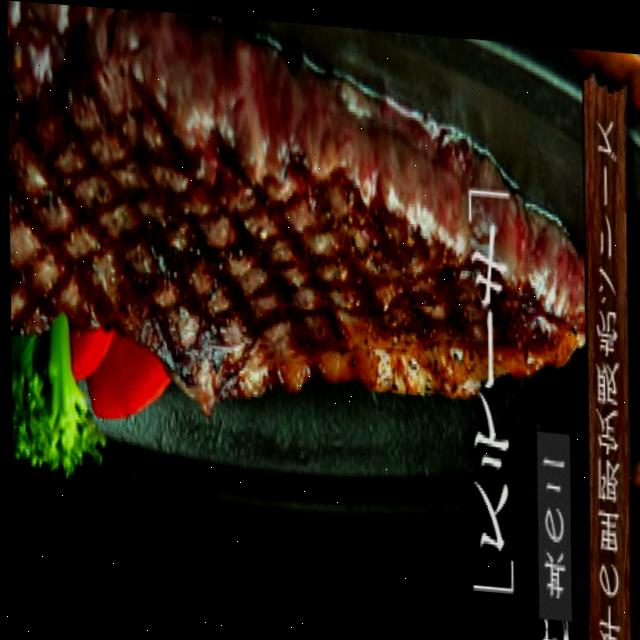牛肉菜式: (0, 0, 464, 435)
